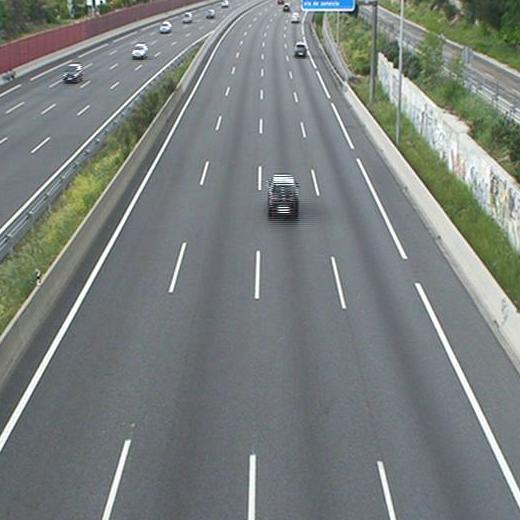car: (266, 173, 300, 221), (294, 43, 308, 57)
